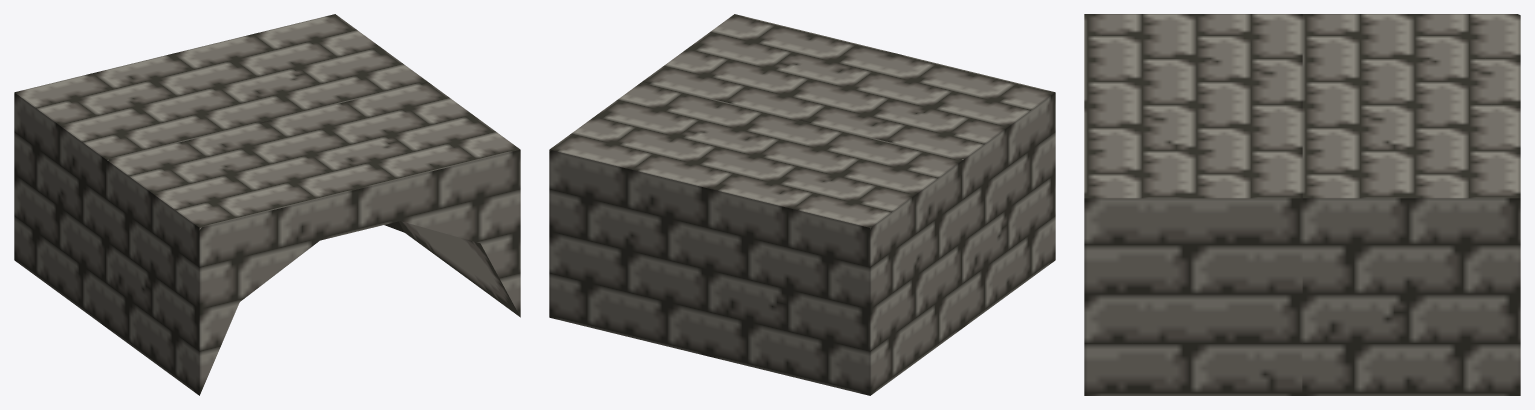
The model's file is Ceiling_Arch_Skinny_End.fbx.
3 renders of one model, left to right at view 1: azimuth 30°, elevation 25°; view 2: azimuth 150°, elevation 25°; view 3: azimuth 270°, elevation 25°, orthographic. The views are drawn at different scales.
Visible parts, largest first — view 1: Ceiling_Arch_Skinny_End; view 2: Ceiling_Arch_Skinny_End; view 3: Ceiling_Arch_Skinny_End.
Boxes of the visible parts, x1,y1,x2,y2 form: Ceiling_Arch_Skinny_End: (14,14,520,395); Ceiling_Arch_Skinny_End: (549,14,1055,395); Ceiling_Arch_Skinny_End: (1084,14,1520,395).
Bounding box in the file's own units: 400 × 200 × 400.
1 material, 1 textured.
